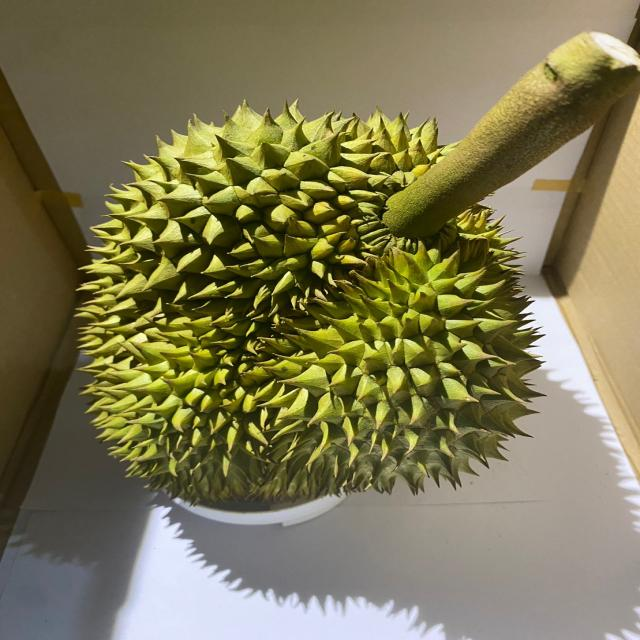immature: (70, 97, 538, 504)
